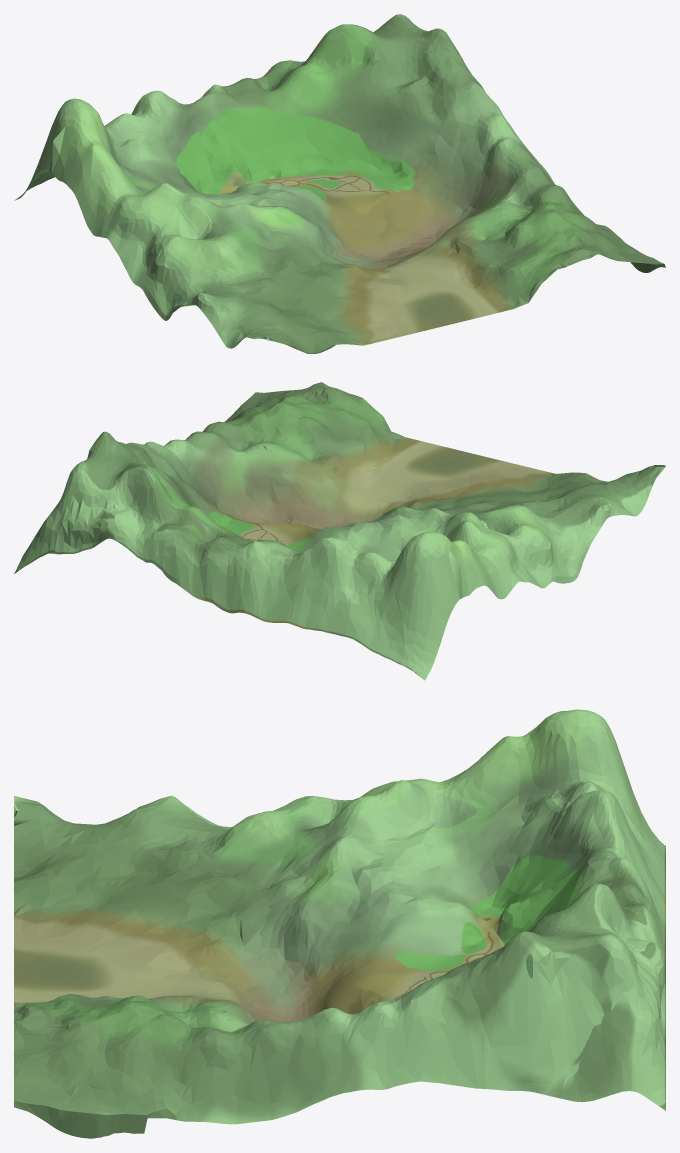
File: Terrain11.fbx
3 views of the same model, one above another, from view 1: azimuth 30°, elevation 25°; view 2: azimuth 150°, elevation 25°; view 3: azimuth 270°, elevation 25° (orthographic). The views are drawn at different scales.
Visible parts, largest first — view 1: Map1_10000p; view 2: Map1_10000p; view 3: Map1_10000p.
Boxes of the visible parts, box(x1,y1,x2,y2) form: Map1_10000p: box(14, 14, 665, 353); Map1_10000p: box(14, 382, 665, 680); Map1_10000p: box(14, 709, 665, 1138).
Bounding box in the file's own units: 39952 × 12603 × 40309.
